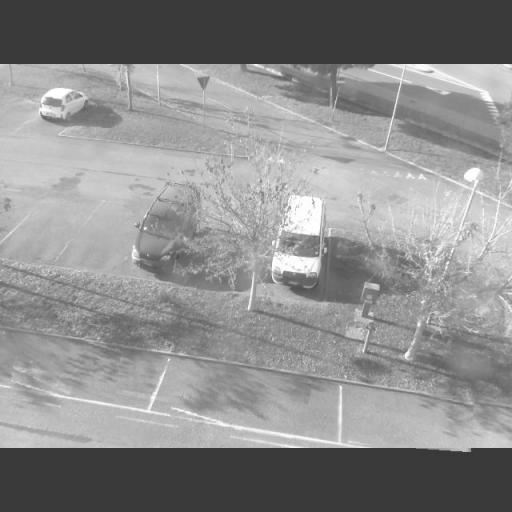busy: (128, 186, 206, 275), (38, 89, 90, 122)
free: (172, 370, 310, 430), (348, 392, 474, 450), (12, 336, 121, 400), (87, 205, 140, 275), (22, 204, 72, 264), (5, 95, 40, 127)
